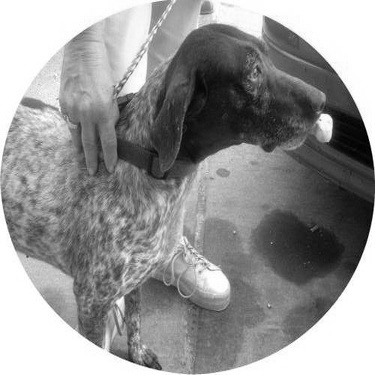dog: (1, 14, 330, 371)
